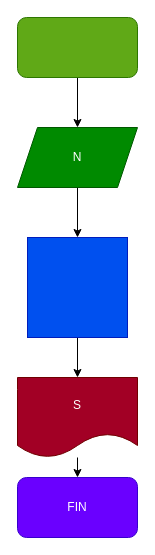
Some shapes in this 155 by 555 pixel diagram are drawn without their labels. Here are the shapes that lost their labels. From the top down, the box of each, then its label:
(16, 16, 138, 78): INICIO
(26, 236, 128, 338): S= N* (N+1) / 2
